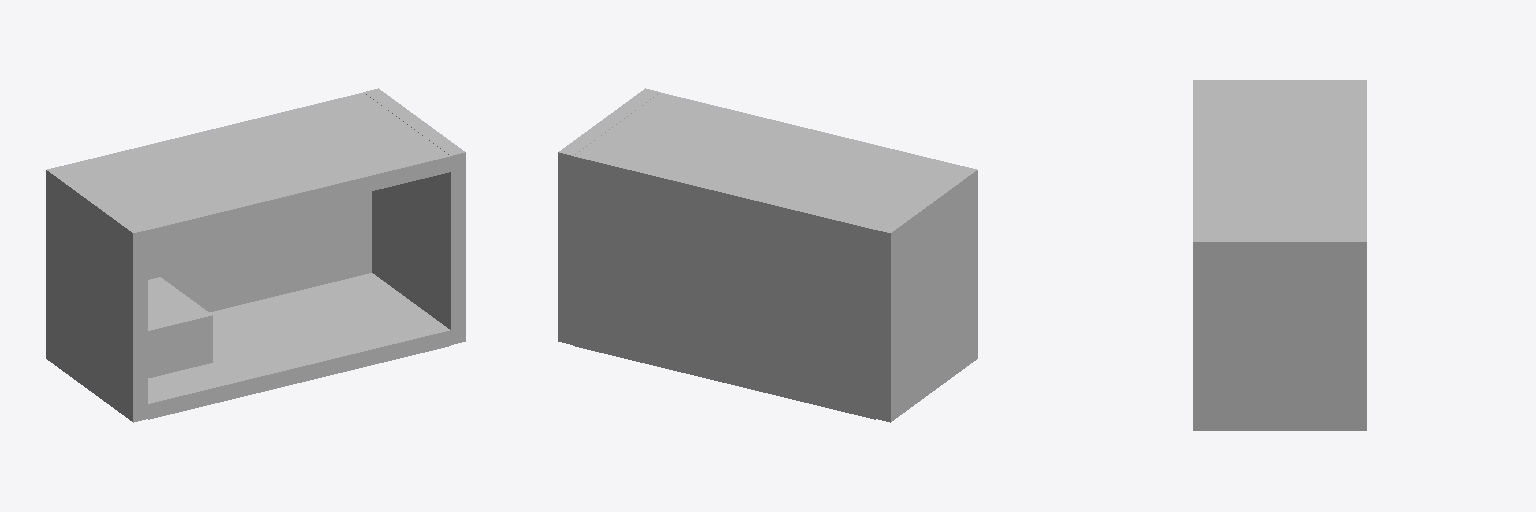
The model's file is bread-2.obj.
The picture shows the model from 3 angles: view 1: azimuth 30°, elevation 25°; view 2: azimuth 150°, elevation 25°; view 3: azimuth 270°, elevation 25°; orthographic projection.
Parts seen in each view (by area): view 1: Object.6, Object.1, Object.7, Object.2, Object.8, Object.5, Object.3, Object.4; view 2: Object.2, Object.6, Object.7, Object.1, Object.8; view 3: Object.8, Object.6, Object.7.
Boxes of the visible parts, x1,y1,x2,y2 form: Object.6: [62, 92, 450, 245]; Object.1: [148, 273, 450, 419]; Object.7: [46, 166, 147, 422]; Object.2: [148, 191, 371, 311]; Object.8: [364, 88, 465, 344]; Object.5: [148, 277, 212, 346]; Object.3: [148, 331, 212, 362]; Object.4: [148, 347, 212, 377]; Object.2: [573, 172, 875, 403]; Object.6: [573, 92, 961, 245]; Object.7: [876, 166, 977, 422]; Object.1: [573, 330, 875, 419]; Object.8: [558, 88, 659, 344]; Object.8: [1193, 235, 1366, 430]; Object.6: [1193, 87, 1366, 234]; Object.7: [1193, 80, 1366, 86].
Bounding box in the file's own units: 440 × 240 × 200.